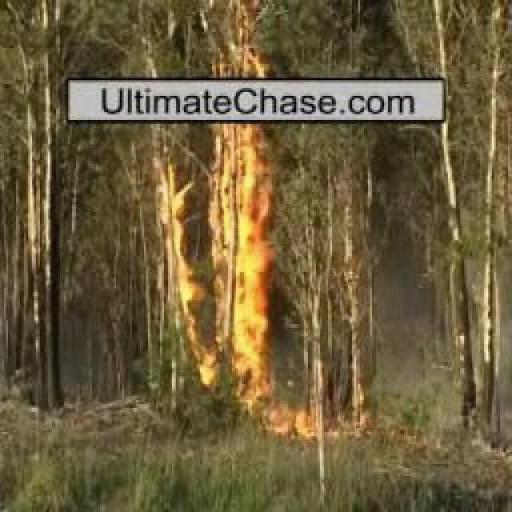smoke: (155, 124, 270, 398), (212, 10, 269, 82), (250, 406, 318, 432)
